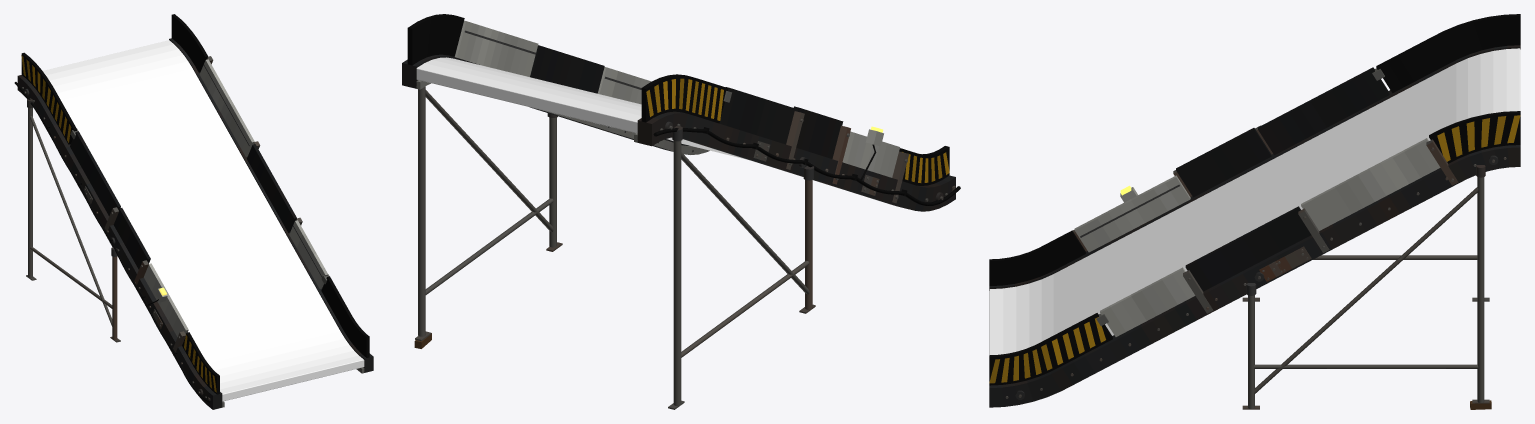
Rendered from conveyor_slope.glb.
3 renders of one model, left to right at view 1: azimuth 30°, elevation 25°; view 2: azimuth 150°, elevation 25°; view 3: azimuth 270°, elevation 25°, orthographic. The views are drawn at different scales.
Parts seen in each view (by area): view 1: Belt, Frame; view 2: Frame, Belt; view 3: Frame, Belt.
Part boxes in pixels (x1,y1,x2,y2): Belt: (43,40,364,401); Frame: (14,14,373,409); Frame: (402,14,960,409); Belt: (416,57,747,159); Frame: (989,14,1520,409); Belt: (989,48,1520,355).
Bounding box in the file's own units: 2.02 × 2.43 × 4.
